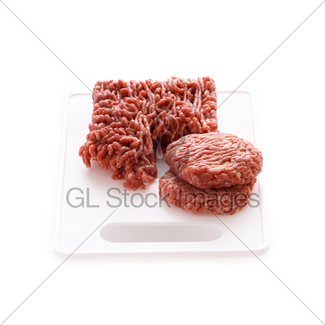ground_beef: (88, 70, 217, 182), (148, 135, 256, 208)
